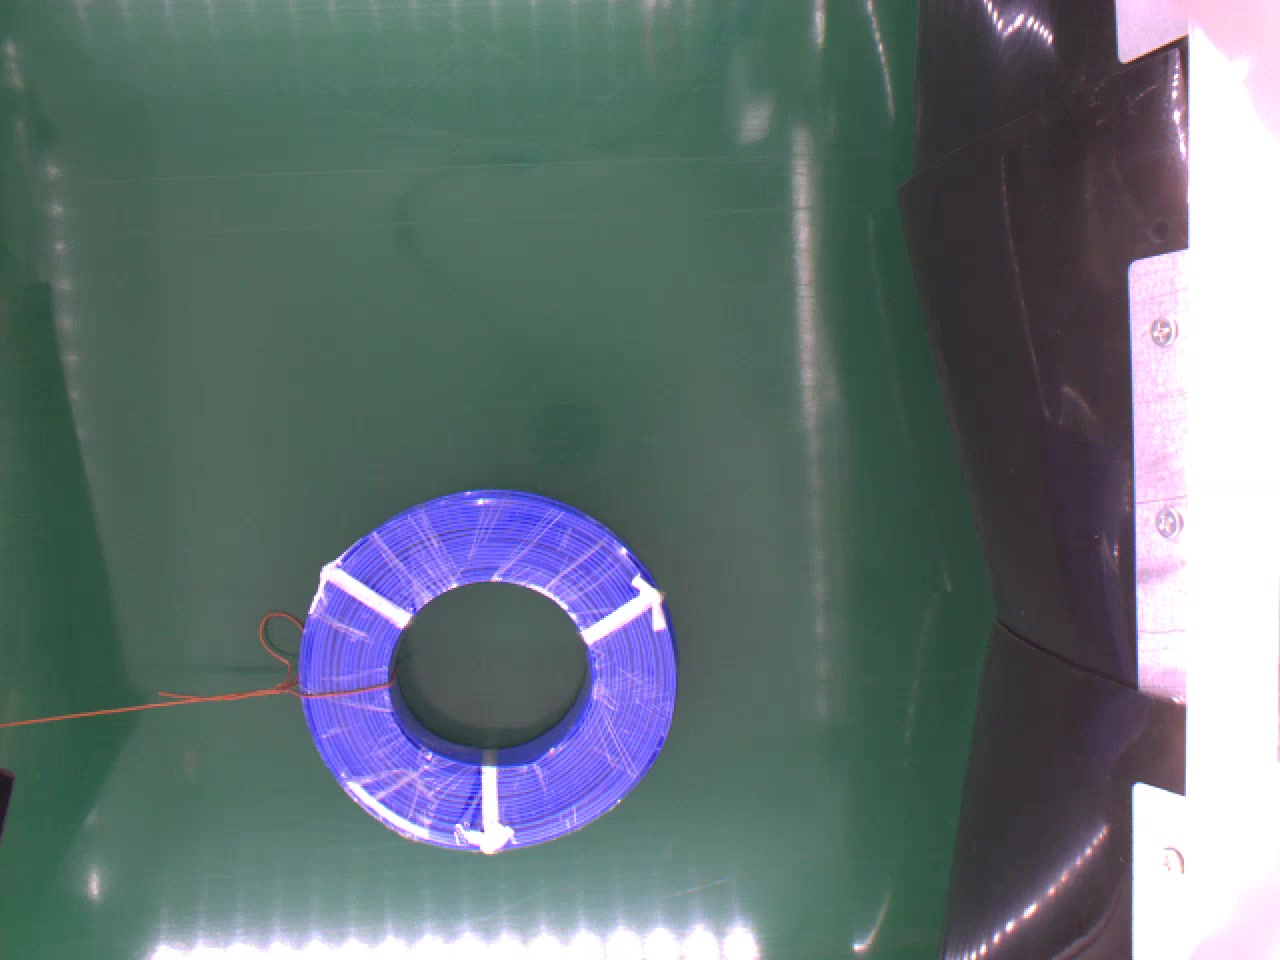blue: (296, 478, 675, 852)
